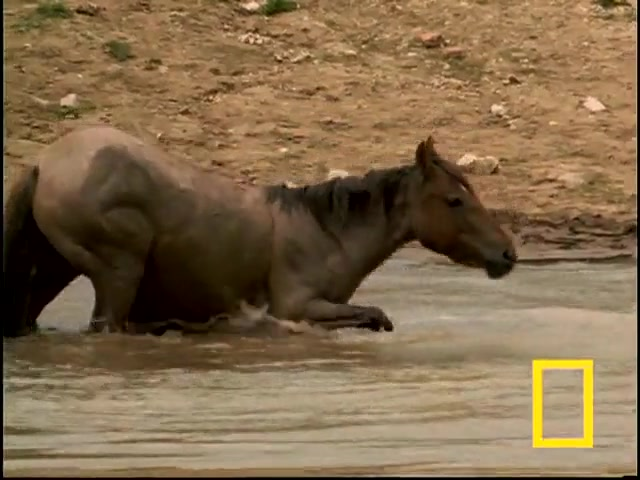horse: (1, 127, 521, 343)
